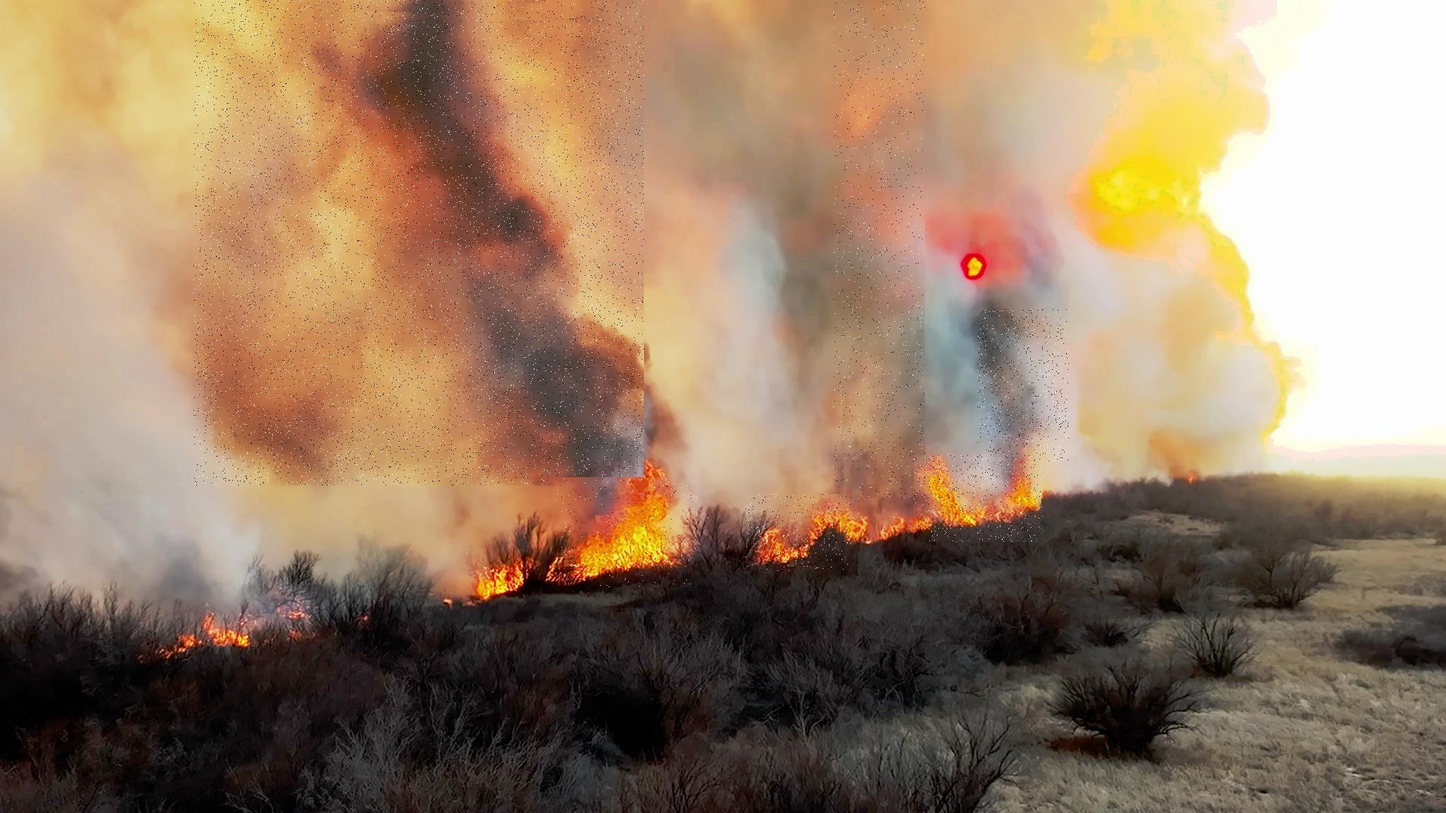fire: (554, 477, 698, 587), (914, 454, 1044, 542), (746, 494, 851, 572)
smoke: (193, 0, 644, 486), (833, 0, 925, 500), (977, 309, 1069, 462)
